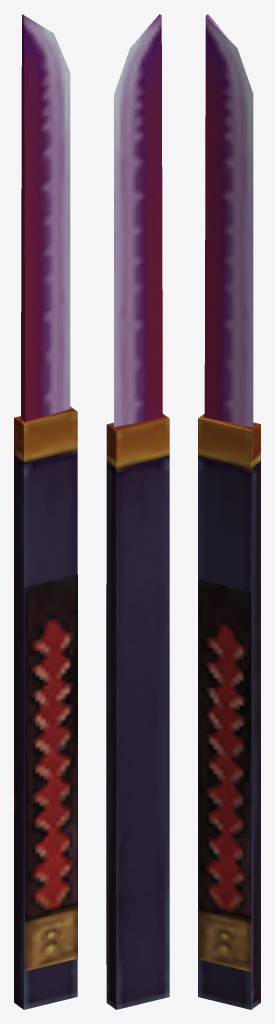
Rendered from Assassin_Samurai_weapon.FBX.
3 renders of one model, left to right at view 1: azimuth 30°, elevation 25°; view 2: azimuth 210°, elevation 25°; view 3: azimuth 330°, elevation 25°, orthographic.
Visible parts, largest first — view 1: weapoon1, weapon2; view 2: weapon2, weapoon1; view 3: weapoon1, weapon2.
Boxes of the visible parts, x1,y1,x2,y2 form: weapoon1: (21, 14, 77, 971); weapon2: (14, 406, 77, 1009); weapon2: (106, 414, 169, 1009); weapoon1: (106, 14, 162, 964); weapoon1: (198, 14, 253, 971); weapon2: (198, 414, 260, 1009).
Size of the model in its own units: 0.0407 by 0.7159 by 0.0132.
Materials: 1 (1 with a texture image).
